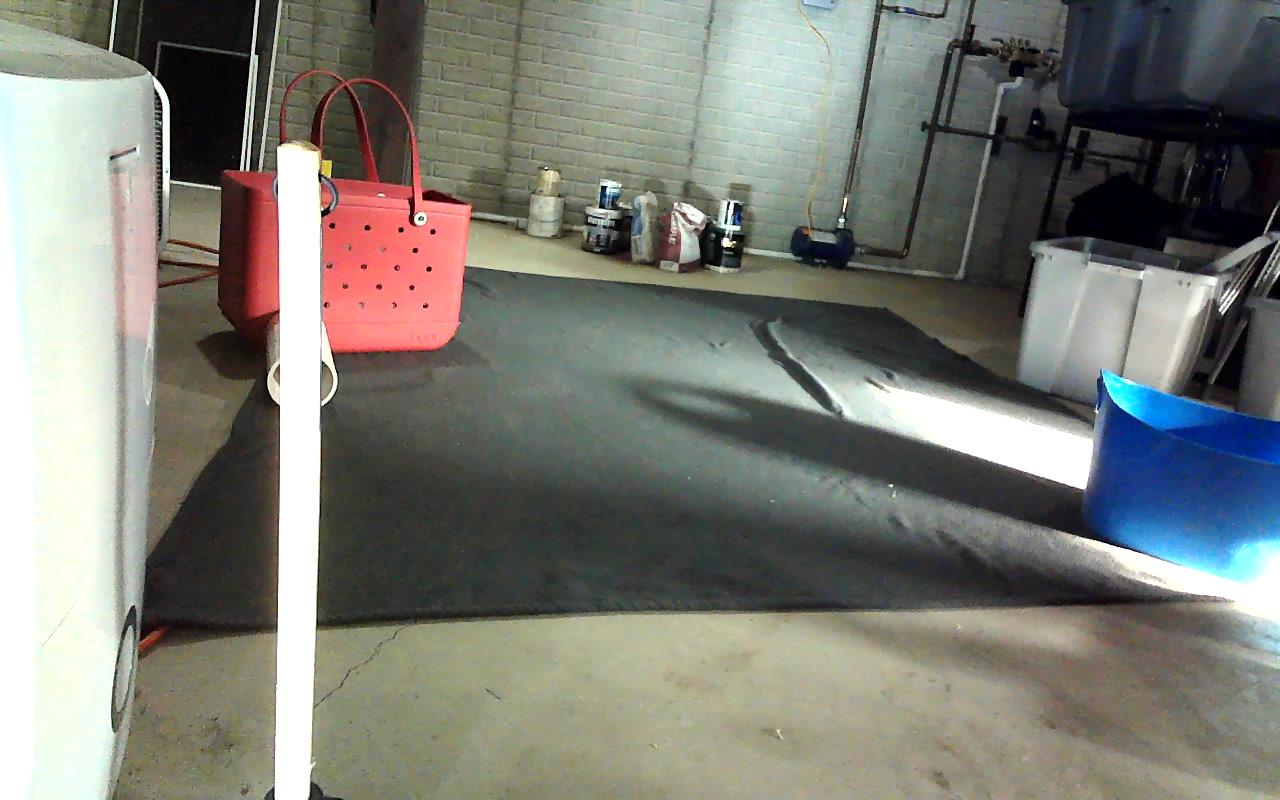coral: (265, 310, 337, 410)
